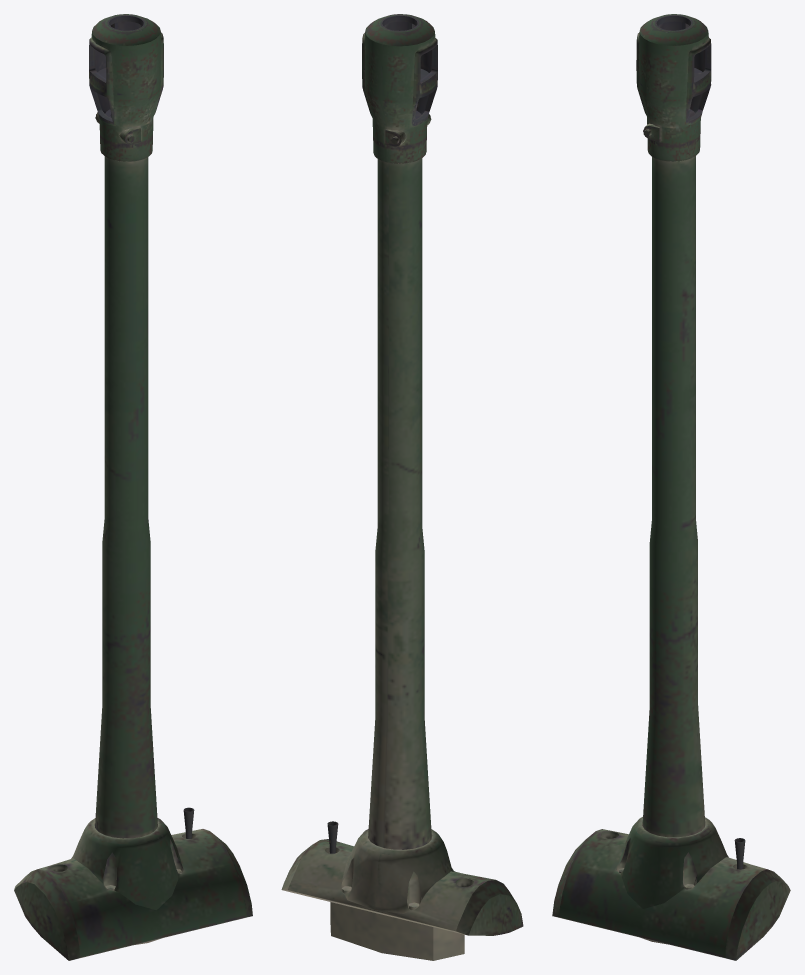
Rendered from Gun_01.glb.
3 views of the same model, side by side, from view 1: azimuth 30°, elevation 25°; view 2: azimuth 150°, elevation 25°; view 3: azimuth 330°, elevation 25° (orthographic).
Visible parts, largest first — view 1: set_0_group_0; view 2: set_0_group_0; view 3: set_0_group_0.
Part boxes in pixels (x1,y1,x2,y2): set_0_group_0: (14,14,252,960); set_0_group_0: (281,14,523,960); set_0_group_0: (552,14,790,960).
Size of the model in its own units: 1 by 4.33 by 0.517.
Materials: 1 (1 with a texture image).
